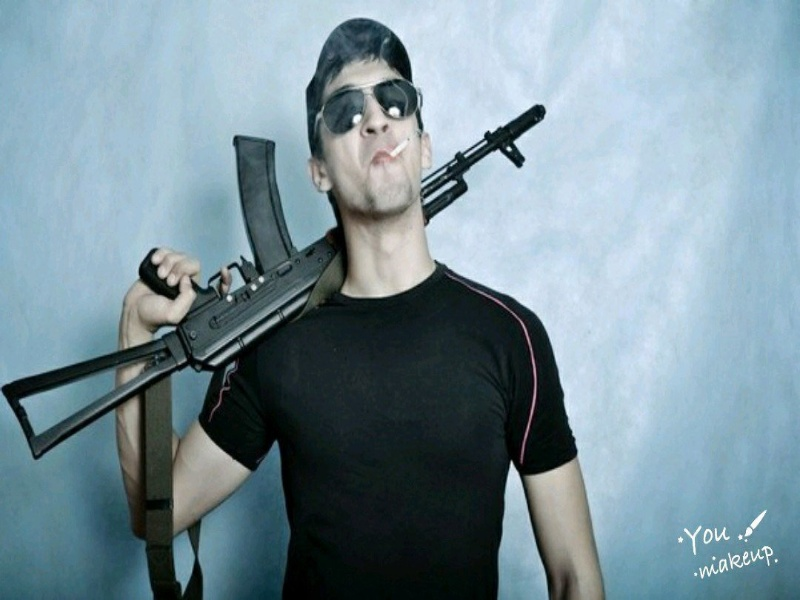person: (114, 18, 606, 600)
weapon: (1, 106, 539, 459)
